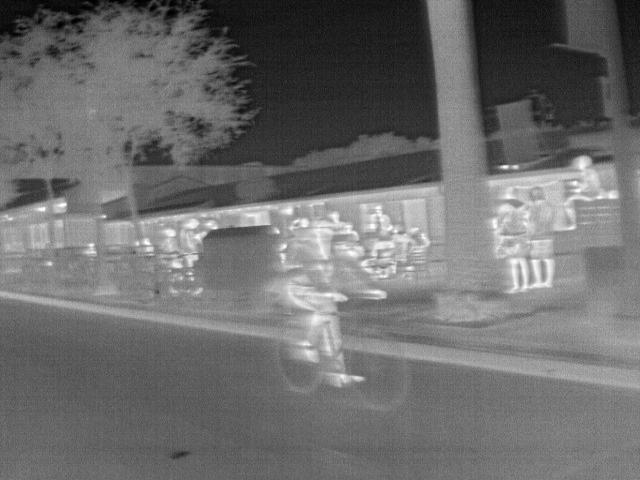person: (286, 221, 389, 389), (522, 184, 558, 290), (500, 189, 533, 294), (563, 152, 603, 227), (363, 230, 398, 278), (179, 214, 207, 271), (401, 226, 427, 260), (366, 204, 399, 230), (324, 207, 353, 233), (159, 224, 180, 253), (291, 214, 311, 228), (142, 236, 155, 246)
